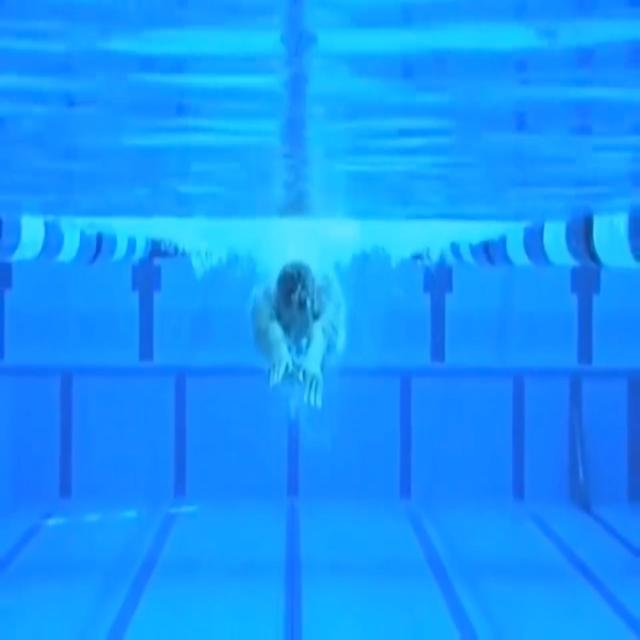Swimming: (248, 261, 348, 411)
